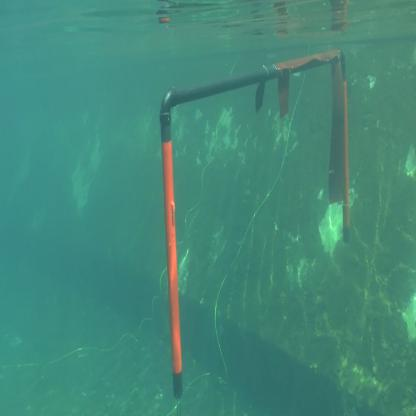gate: (160, 42, 354, 403)
